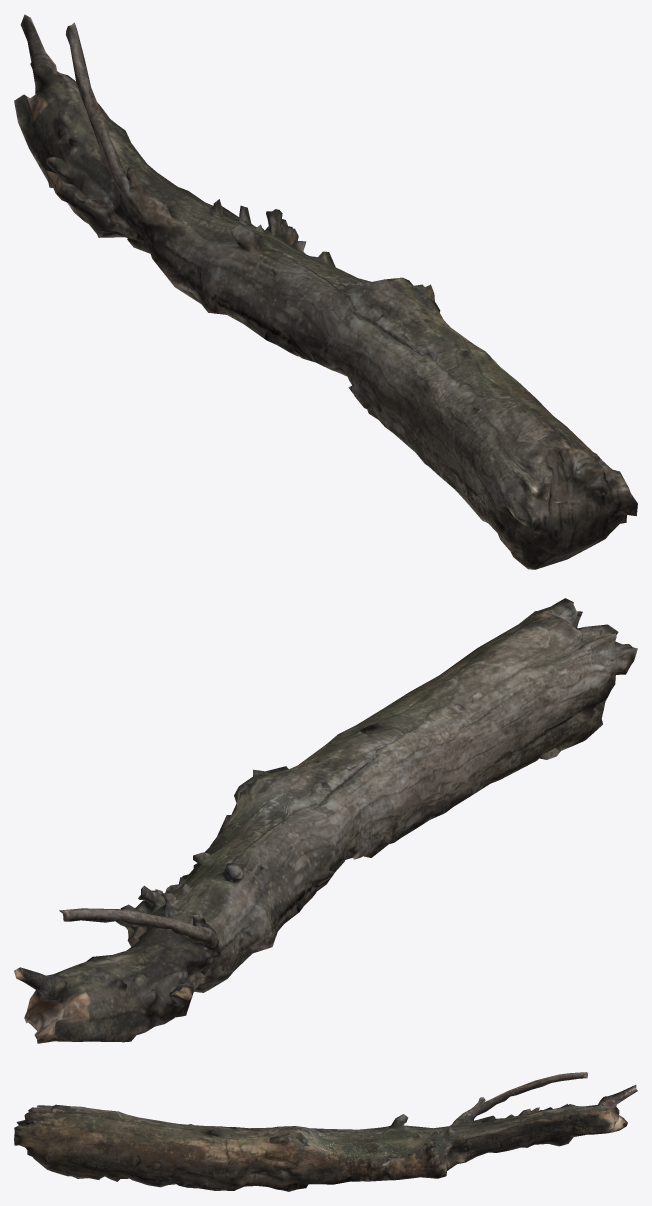
File: SM_Branches_03.gltf
The picture shows the model from 3 angles, top to bottom: view 1: azimuth 30°, elevation 25°; view 2: azimuth 150°, elevation 25°; view 3: azimuth 270°, elevation 25°; orthographic projection. The views are drawn at different scales.
Parts seen in each view (by area): view 1: SM_Branches_03; view 2: SM_Branches_03; view 3: SM_Branches_03.
Part boxes in pixels (x1,y1,x2,y2): SM_Branches_03: (14, 14, 637, 569); SM_Branches_03: (14, 598, 637, 1043); SM_Branches_03: (14, 1072, 637, 1191).
Bounding box in the file's own units: 0.13 × 0.1429 × 0.7767.
1 material, 1 textured.
